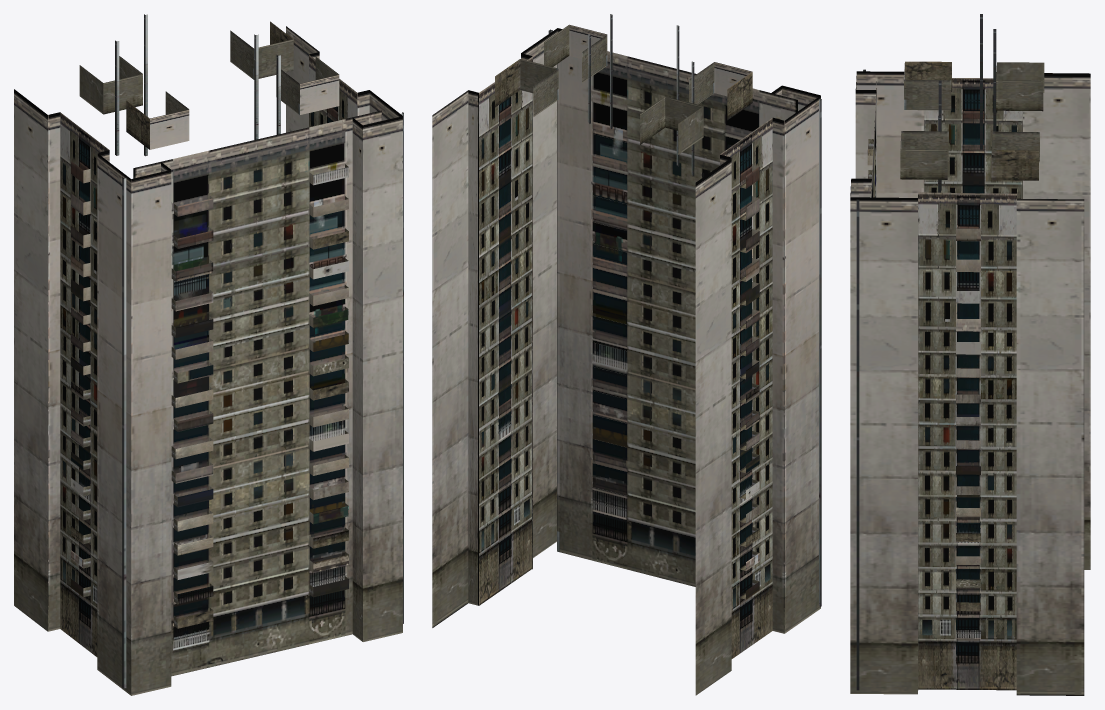
The model's file is Ruin_Tower_02.fbx.
3 views of the same model, side by side, from view 1: azimuth 30°, elevation 25°; view 2: azimuth 150°, elevation 25°; view 3: azimuth 270°, elevation 25° (orthographic). The views are drawn at different scales.
Visible parts, largest first — view 1: Ruin_Tower_02_Part0_buildingsheet_03a; view 2: Ruin_Tower_02_Part0_buildingsheet_03a; view 3: Ruin_Tower_02_Part0_buildingsheet_03a.
Part boxes in pixels (x1=…): Ruin_Tower_02_Part0_buildingsheet_03a: x1=14, y1=14, x2=403, y2=695; Ruin_Tower_02_Part0_buildingsheet_03a: x1=432, y1=14, x2=821, y2=695; Ruin_Tower_02_Part0_buildingsheet_03a: x1=850, y1=14, x2=1090, y2=695.
Bounding box in the file's own units: 1.76 × 3.72 × 1.37.
